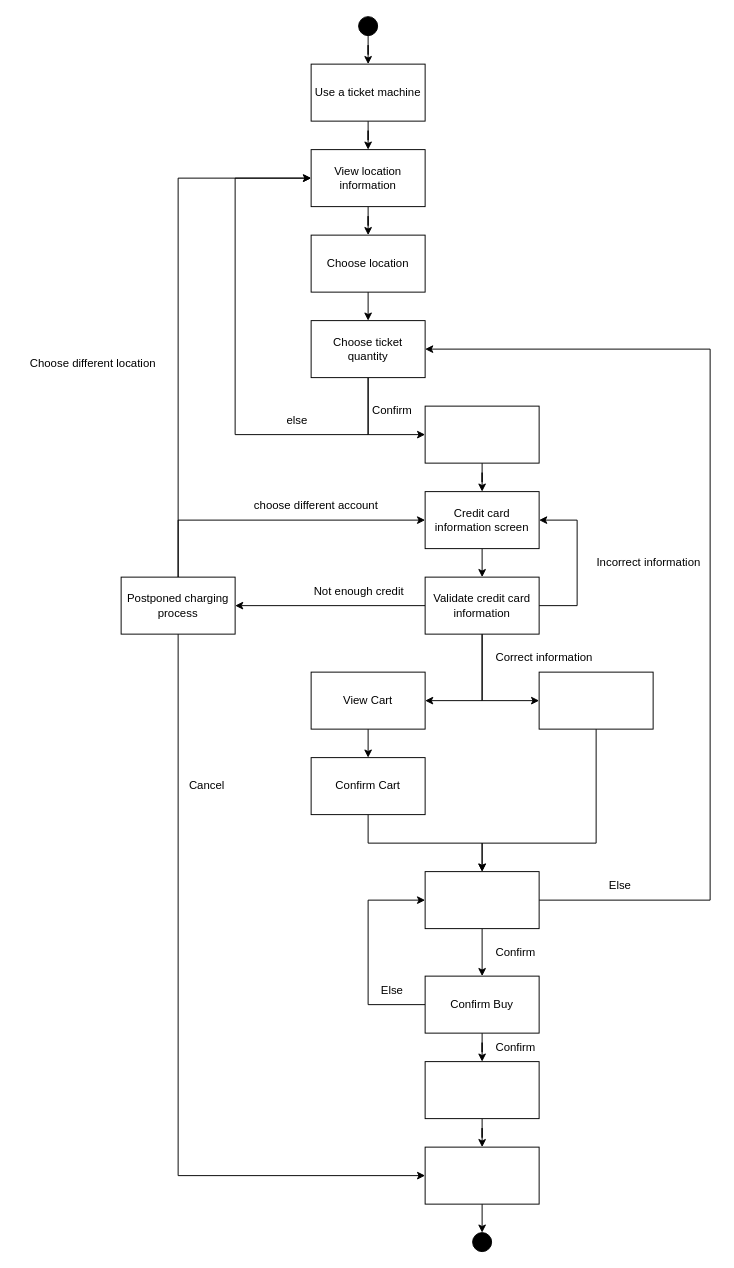
The diagram is 734 pixels wide and 1268 high, and some of its shapes have lost their labels. Here are the shapes that lost their labels. From the top down, the box of each, then its label:
(424, 405, 539, 463): Add to cart
(538, 671, 653, 729): Confirm purchase process
(424, 871, 539, 929): View Invoice
(424, 1061, 539, 1119): Give out ticket and receipt
(424, 1146, 539, 1204): Machine log out
